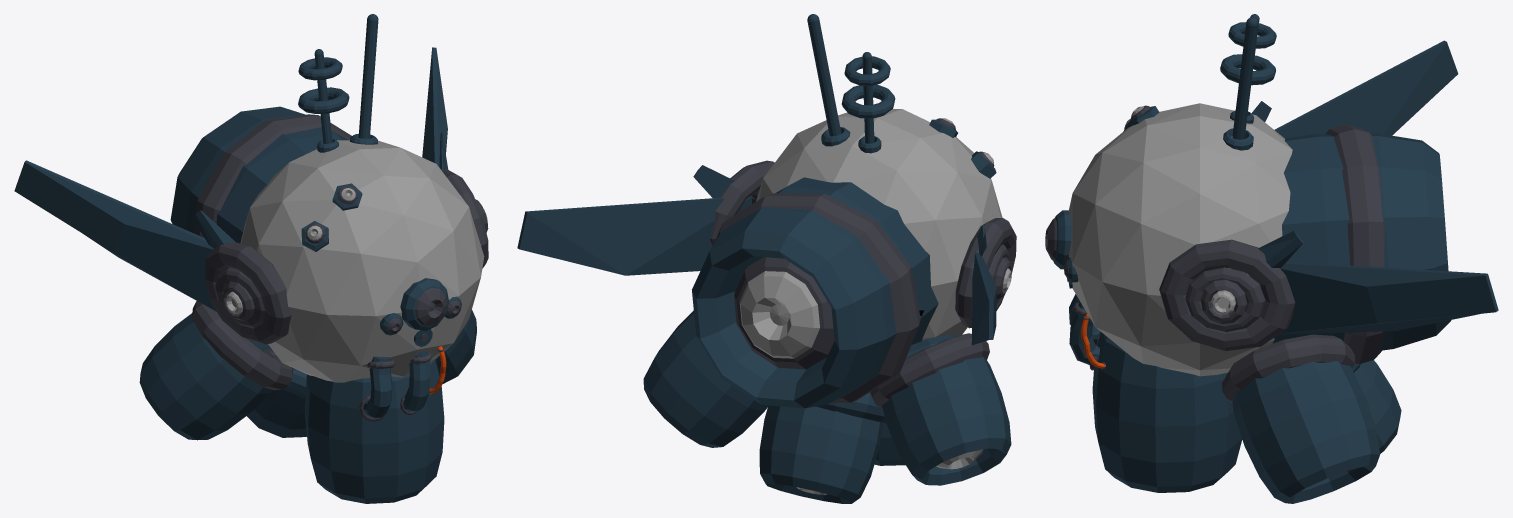
The model's file is DroneVisual2.FBX.
The picture shows the model from 3 angles, left to right: view 1: azimuth 30°, elevation 25°; view 2: azimuth 150°, elevation 25°; view 3: azimuth 270°, elevation 25°; orthographic projection. The views are drawn at different scales.
Parts seen in each view (by area): view 1: Drone; view 2: Drone; view 3: Drone.
Part boxes in pixels (x1,y1,x2,y2): Drone: (14,14,488,503); Drone: (517,14,1016,503); Drone: (1045,14,1498,503).
Bounding box in the file's own units: 1.6 × 1.52 × 1.31.
